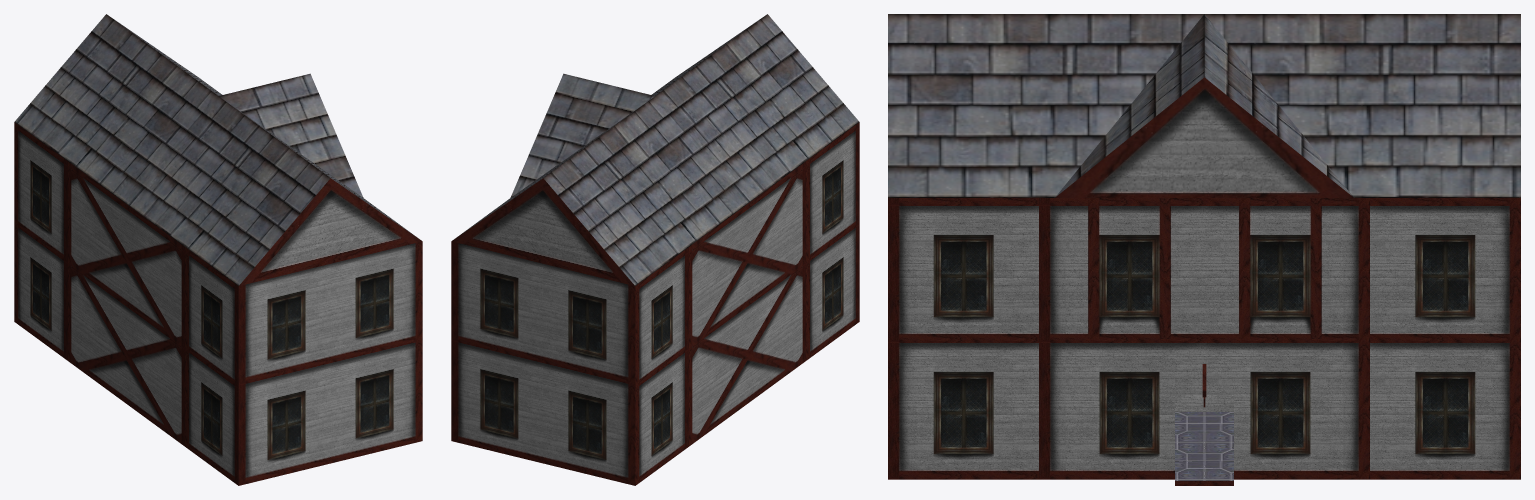
The model's file is bank.gltf.
3 renders of one model, left to right at view 1: azimuth 30°, elevation 25°; view 2: azimuth 150°, elevation 25°; view 3: azimuth 270°, elevation 25°, orthographic. The views are drawn at different scales.
Visible parts, largest first — view 1: bank; view 2: bank; view 3: bank.
Boxes of the visible parts, x1,y1,x2,y2 form: bank: [14, 14, 422, 485]; bank: [451, 14, 859, 485]; bank: [888, 14, 1520, 485].
Bounding box in the file's own units: 11.44 × 15 × 21.38.
Materials: 22 (22 with a texture image).
